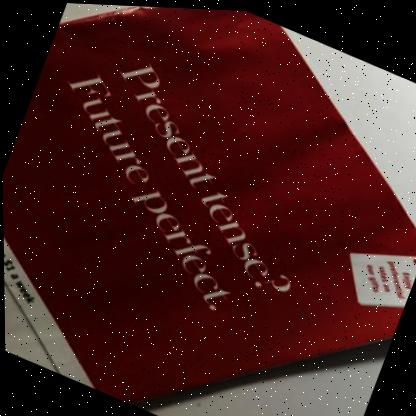Paper: (2, 5, 416, 402)
